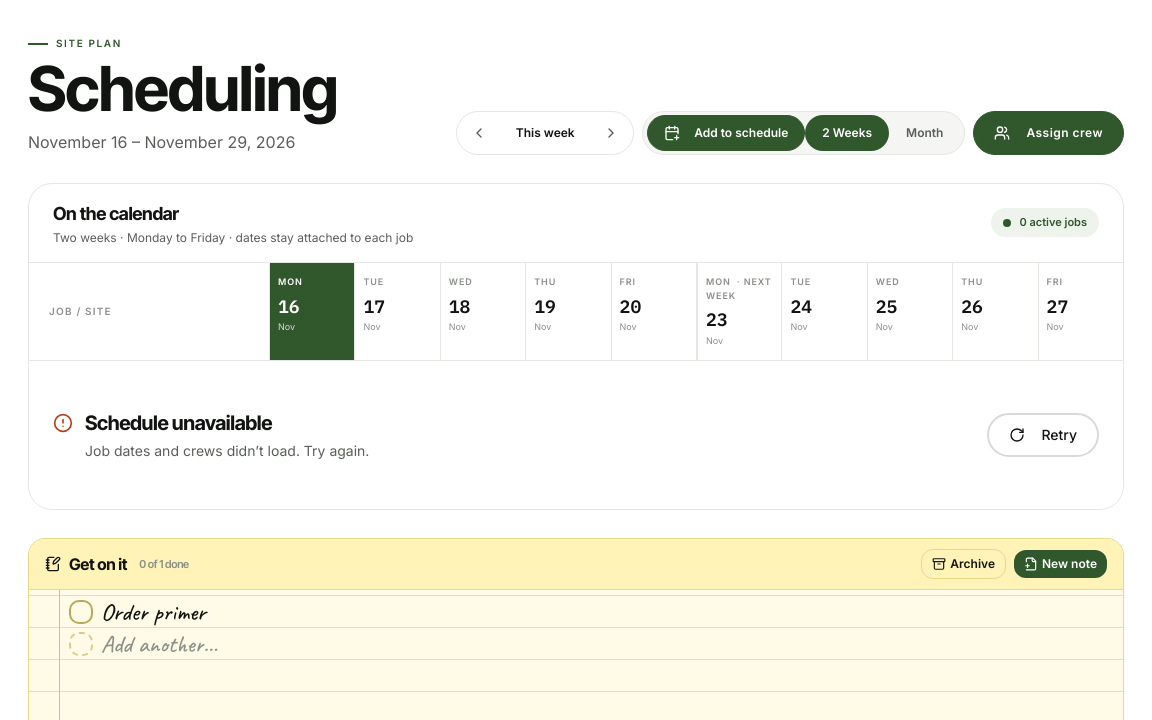
Scheduling redesign › shows recoverable errors in both views without pretending jobs are absent
Expected: the message "Schedule unavailable Job dates and crews didn’t load. Try again. Retry" is shown, [53,411,1099,459]
Click the button with test id "button-view-month" at (925, 133), box [889,115,960,151]
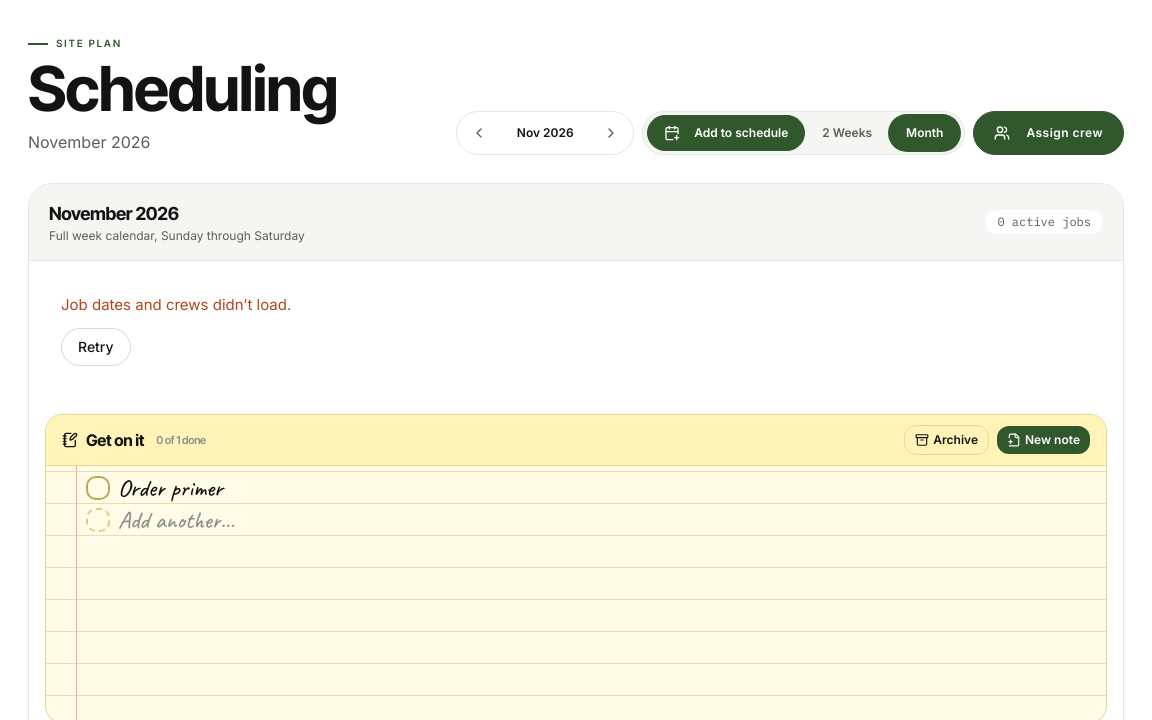
Expected: the message shows "didn’t load", [61,295,291,314]
Click the button with test id "button-retry-schedule" at (96, 347), box [61,328,131,366]
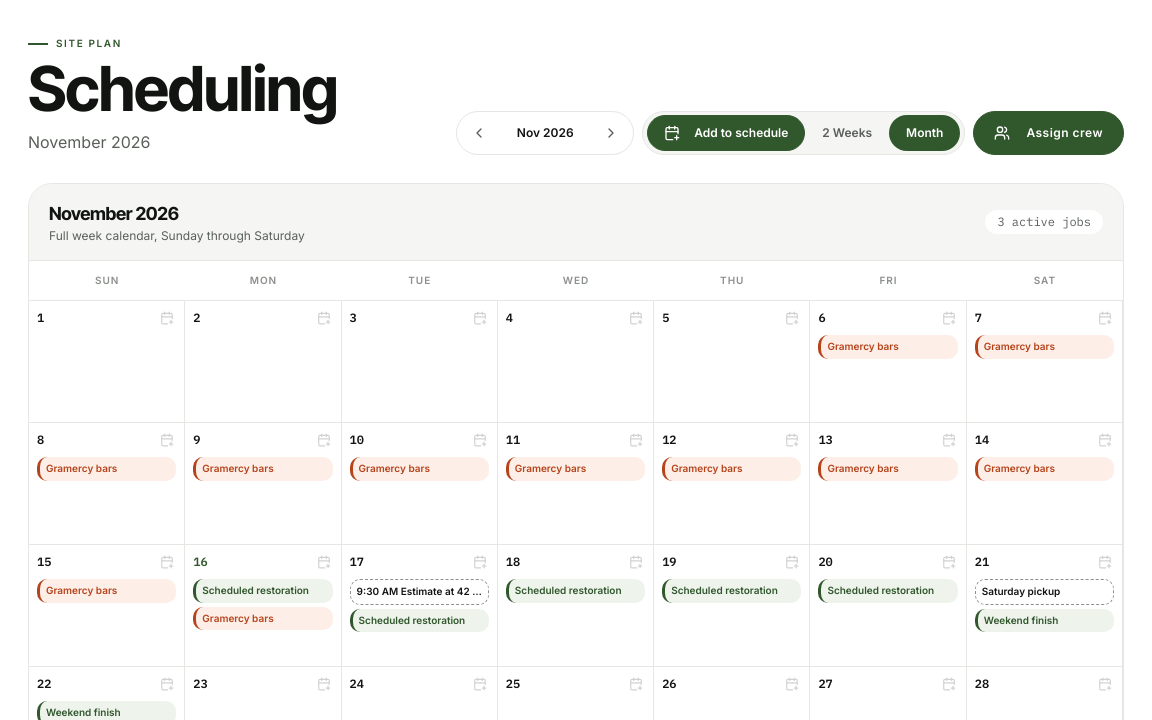
Click the button with test id "button-view-week" at (847, 133), box [805,115,889,151]
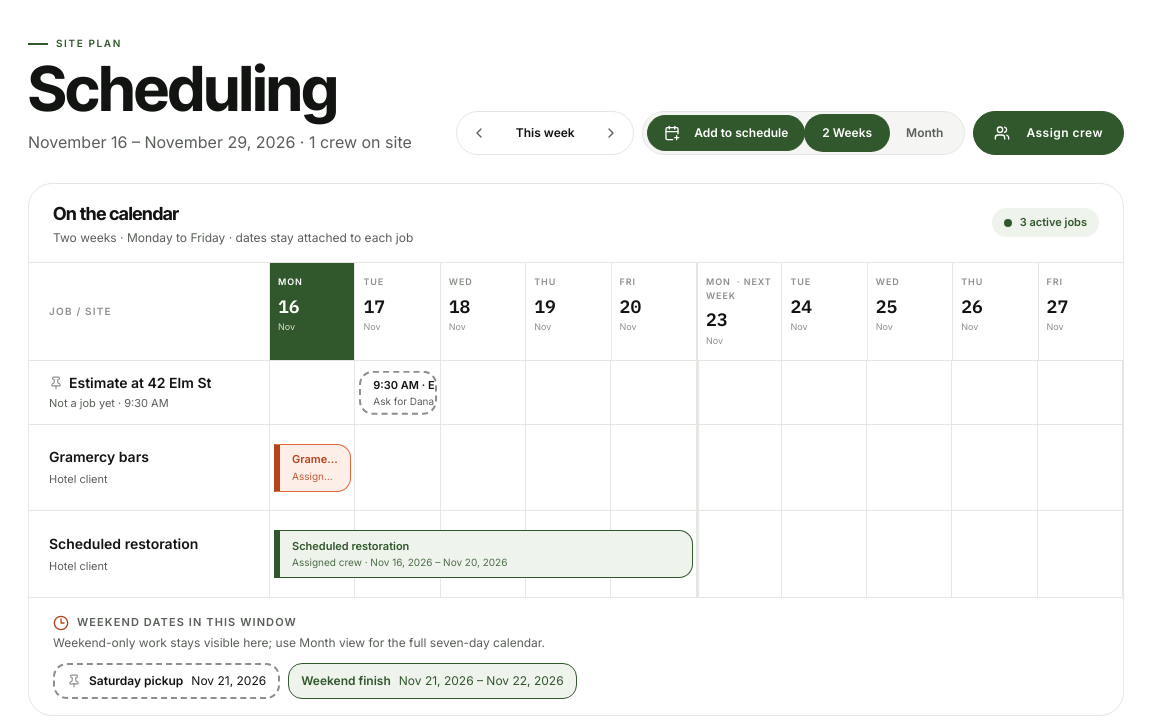
Expected: the link with test id "job-block-scheduled" is shown, [274,530,692,578]
